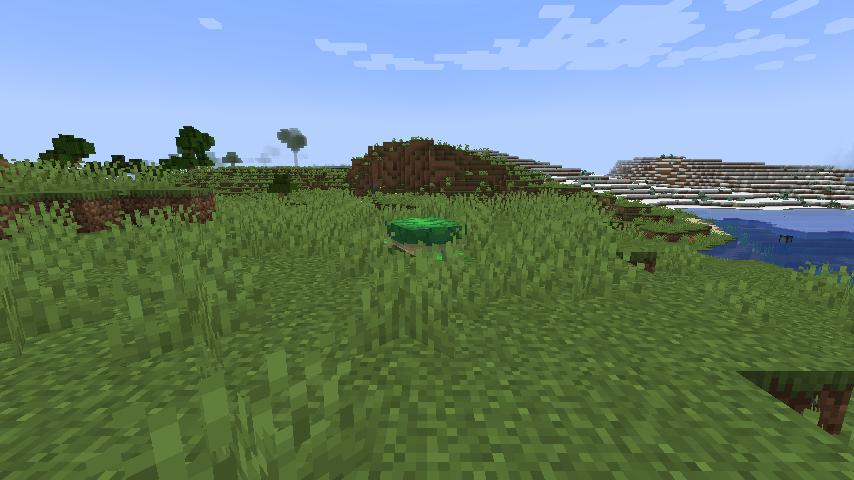turtle: (377, 211, 470, 259)
